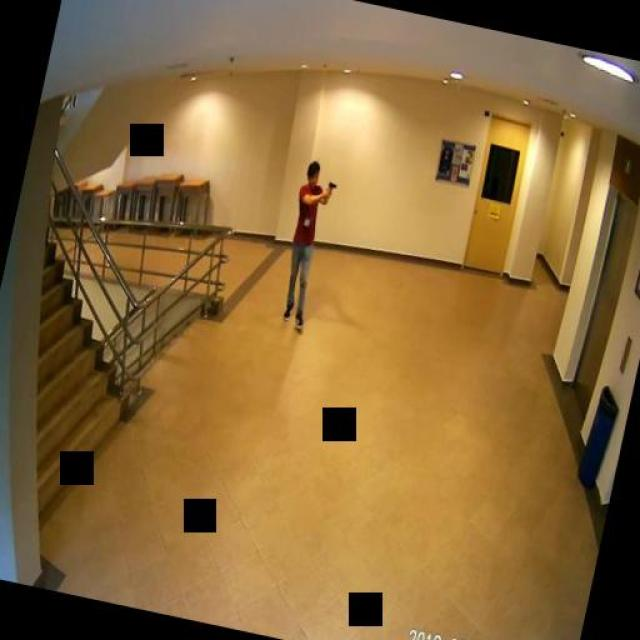gun: (324, 178, 335, 196)
